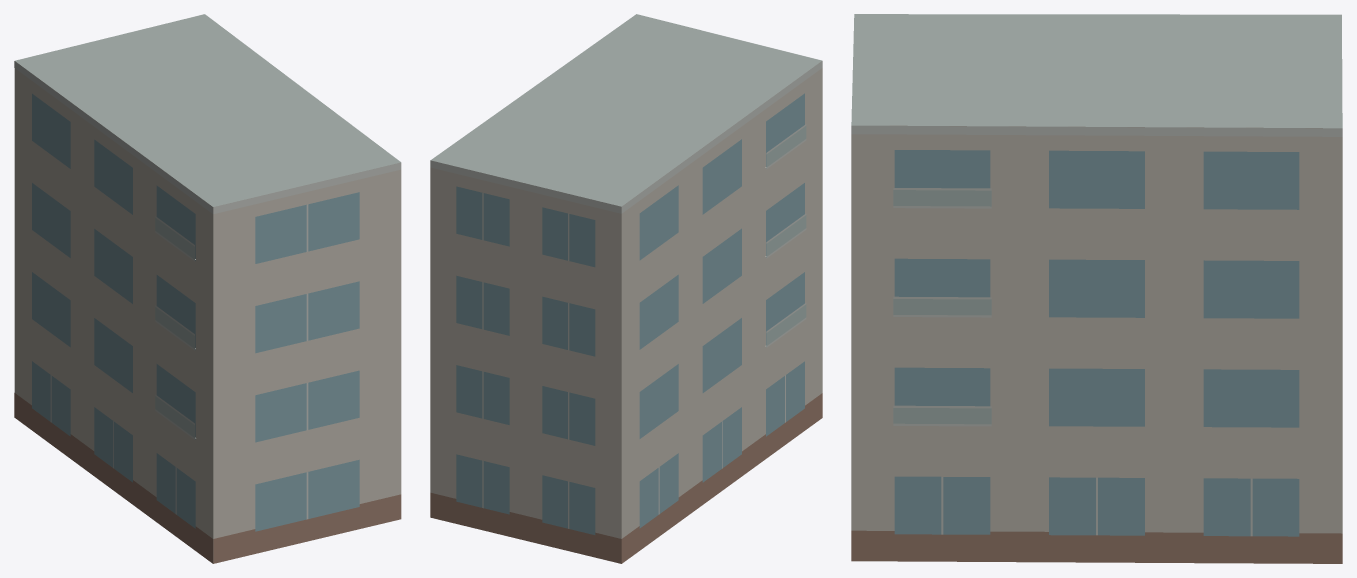
File: survey-upis-32779964.glb
3 renders of one model, left to right at view 1: azimuth 30°, elevation 25°; view 2: azimuth 150°, elevation 25°; view 3: azimuth 270°, elevation 25°, orthographic. The views are drawn at different scales.
Parts seen in each view (by area): view 1: survey-upis-32779964.tmp; view 2: survey-upis-32779964.tmp; view 3: survey-upis-32779964.tmp.
Boxes of the visible parts, x1=… form: survey-upis-32779964.tmp: x1=14, y1=14, x2=401, y2=563; survey-upis-32779964.tmp: x1=430, y1=14, x2=822, y2=563; survey-upis-32779964.tmp: x1=851, y1=14, x2=1342, y2=563.
Size of the model in its own units: 6.9 by 12.2 by 12.48.
